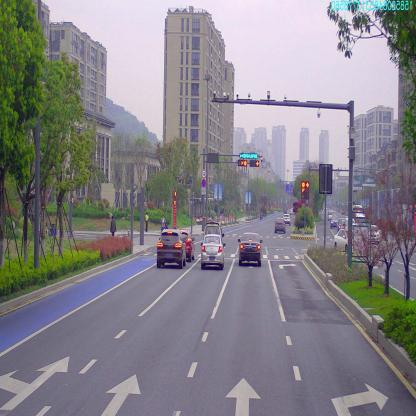traffic-light: (249, 159, 260, 168), (239, 152, 257, 157), (237, 159, 248, 167)
